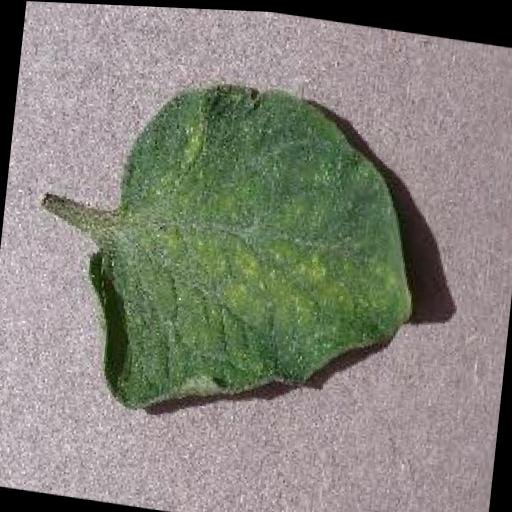Spider Mites: (74, 64, 434, 448)
